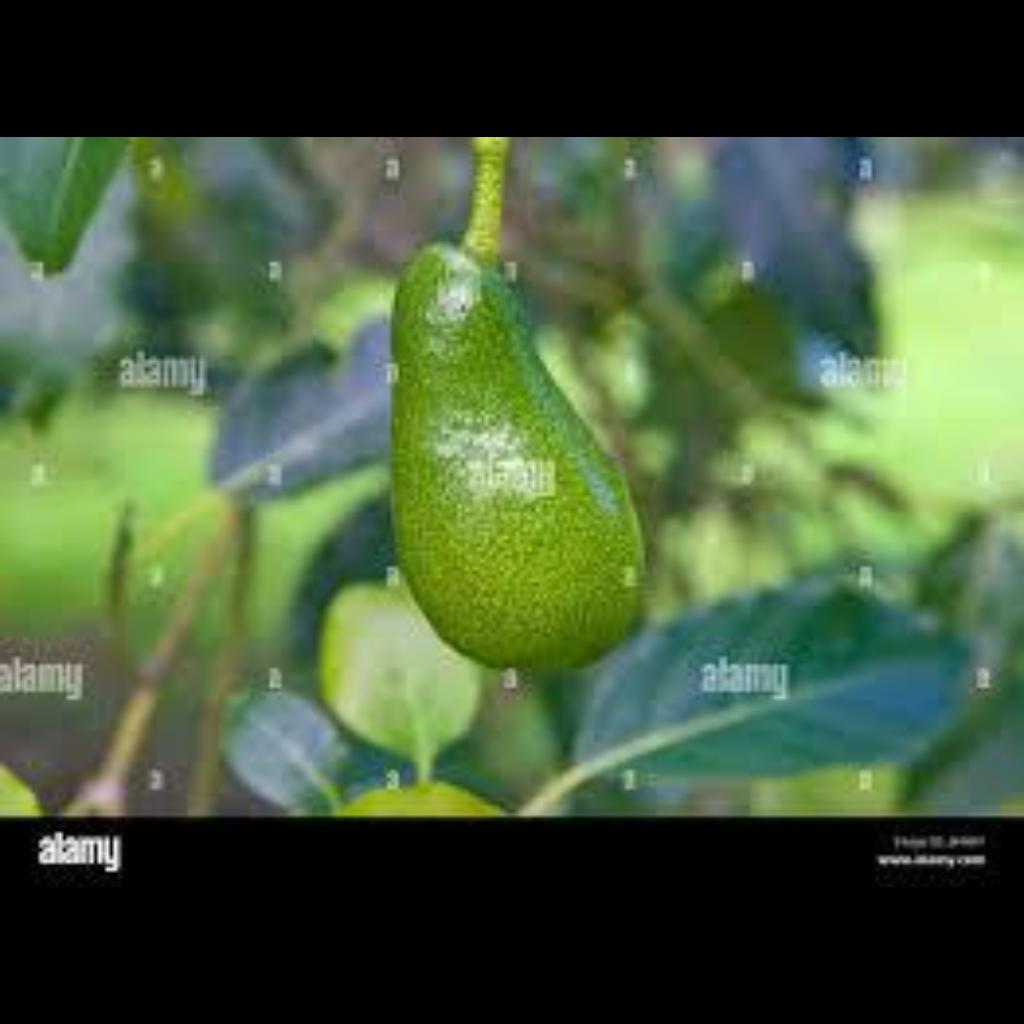cercospora_spot: (374, 232, 662, 690)
